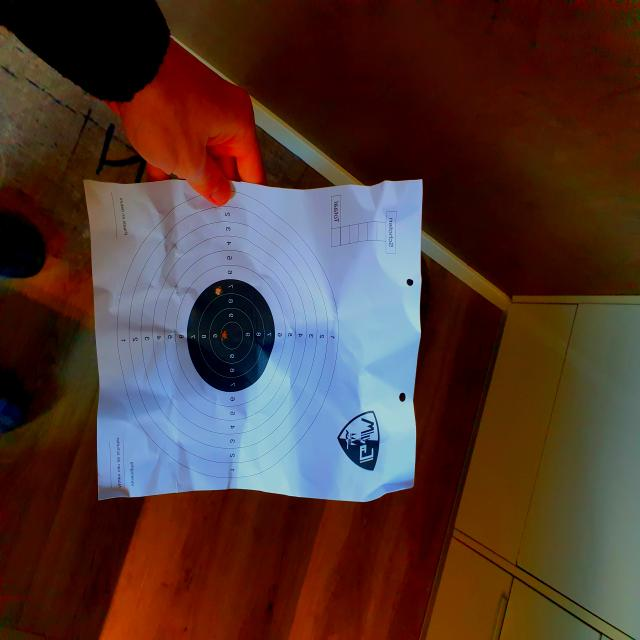10: (221, 330, 228, 341)
7: (214, 286, 223, 296)
black_contour: (116, 196, 339, 479), (187, 279, 276, 392)
